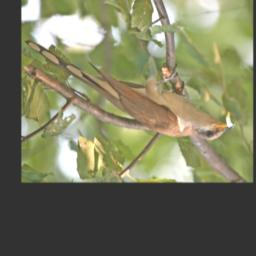Cuckoo: (23, 39, 239, 141)
